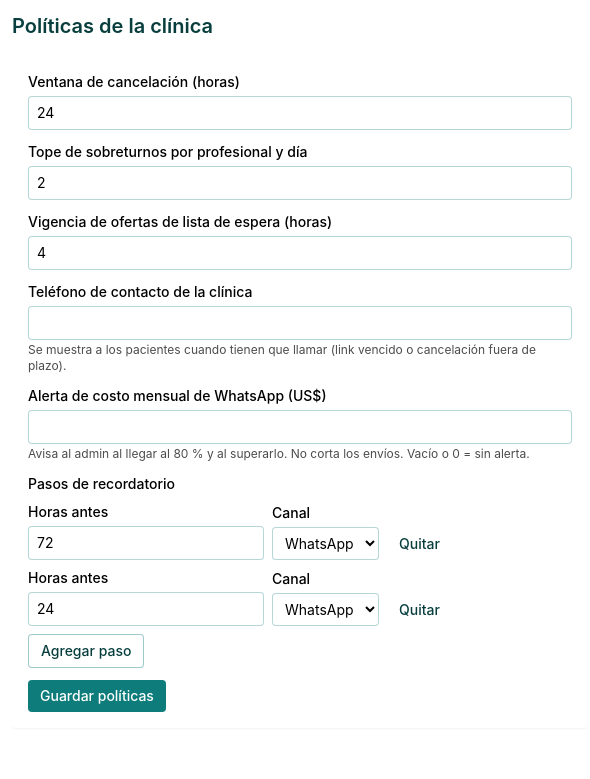
Test case: PoliciesPage › muestra el error de la API
Replace the text in the number field labelled "Ventana de cancelación (horas)" with "9999" at (300, 113), box [28,96,572,130]
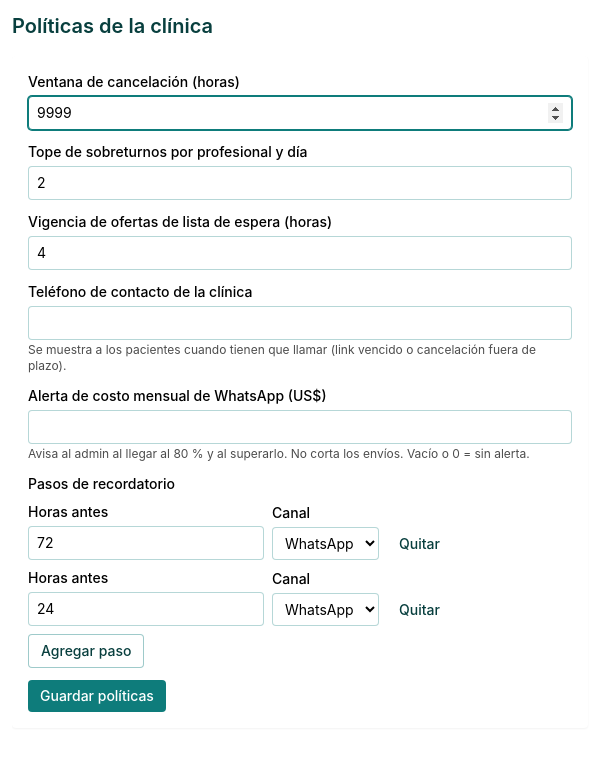
Click the button "Guardar políticas" at (97, 696), box [28,680,166,712]
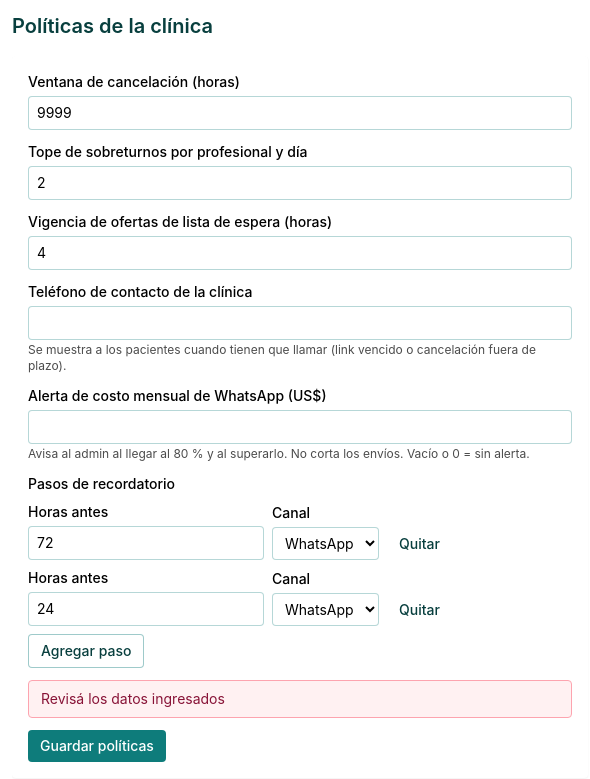
Expected: the message reads "Revisá los datos ingresados", [41,690,225,707]
